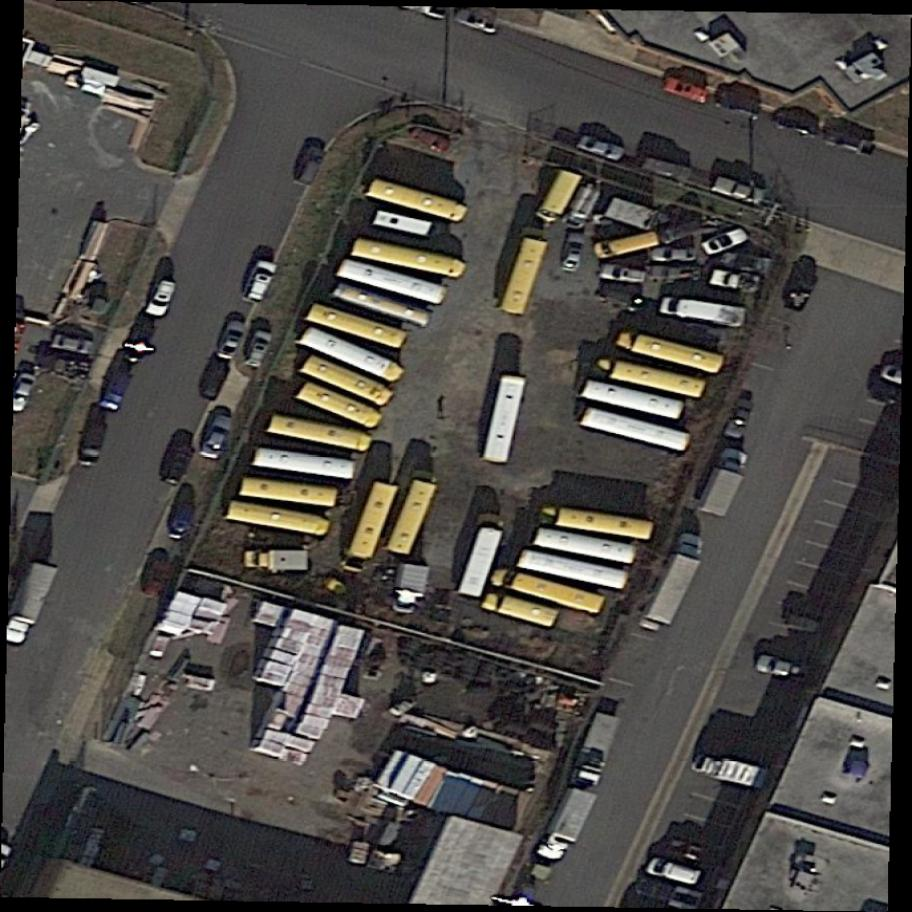large-vehicle: (531, 779, 603, 871), (644, 528, 708, 631), (297, 326, 405, 384), (1, 558, 64, 653), (299, 351, 398, 409), (490, 567, 607, 616), (693, 439, 758, 527), (337, 258, 453, 307), (352, 236, 469, 282), (518, 547, 632, 594), (332, 279, 437, 330), (366, 175, 469, 226), (581, 408, 695, 454), (616, 328, 726, 375), (593, 357, 708, 401), (384, 468, 439, 559), (581, 378, 686, 423), (307, 305, 409, 351), (498, 228, 548, 315), (485, 371, 530, 467), (346, 479, 398, 561), (458, 513, 507, 600), (252, 445, 361, 484), (268, 413, 373, 453), (534, 526, 639, 566), (297, 381, 382, 430), (571, 709, 621, 792), (539, 505, 654, 540), (224, 501, 332, 538), (482, 588, 560, 632), (690, 752, 773, 793), (535, 166, 584, 230), (664, 296, 750, 327), (560, 181, 604, 235), (589, 229, 661, 262), (392, 562, 430, 618), (372, 208, 434, 241), (246, 549, 309, 570)
small-vehicle: (192, 407, 238, 466), (708, 172, 773, 211), (643, 851, 708, 889), (115, 316, 159, 370), (240, 255, 281, 310), (779, 265, 822, 317), (661, 833, 723, 869), (93, 365, 135, 417), (572, 130, 631, 166), (291, 140, 331, 191), (141, 271, 181, 322), (750, 649, 808, 684), (158, 438, 196, 491), (698, 224, 753, 260), (720, 391, 758, 443), (76, 415, 112, 469), (640, 154, 697, 187), (194, 357, 232, 405), (657, 74, 713, 106), (451, 3, 503, 37), (820, 127, 877, 158), (5, 370, 41, 418), (138, 554, 173, 602), (214, 316, 248, 364), (770, 110, 822, 141), (708, 266, 765, 294), (716, 91, 767, 122), (165, 499, 198, 544), (243, 326, 275, 372), (382, 692, 422, 726), (596, 261, 648, 287), (721, 249, 773, 274), (46, 332, 96, 358), (660, 219, 706, 245), (780, 611, 822, 635), (650, 265, 701, 282), (652, 246, 697, 262), (421, 656, 440, 685)
